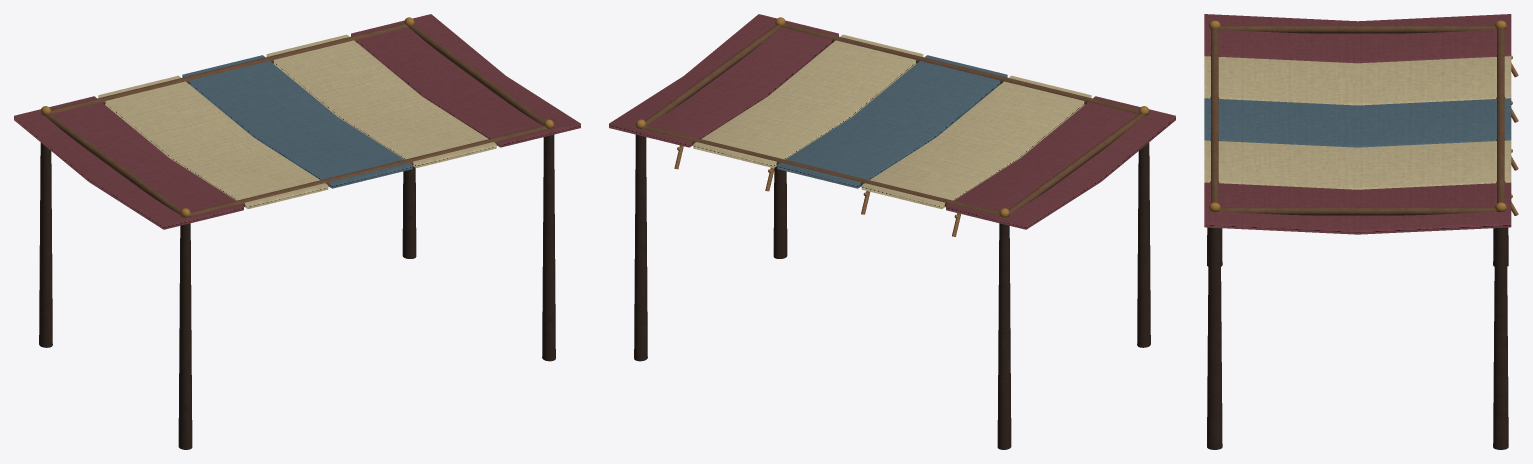
File: market_awning.glb
The picture shows the model from 3 angles, left to right: view 1: azimuth 30°, elevation 25°; view 2: azimuth 150°, elevation 25°; view 3: azimuth 270°, elevation 25°; orthographic projection. The views are drawn at different scales.
Visible parts, largest first — view 1: market_awning; view 2: market_awning; view 3: market_awning.
Part boxes in pixels (x1,y1,x2,y2): market_awning: [14, 14, 580, 449]; market_awning: [609, 14, 1175, 449]; market_awning: [1204, 14, 1518, 449].
Size of the model in its own units: 4.4 by 2.4 by 2.8.
Materials: 1 (1 with a texture image).
